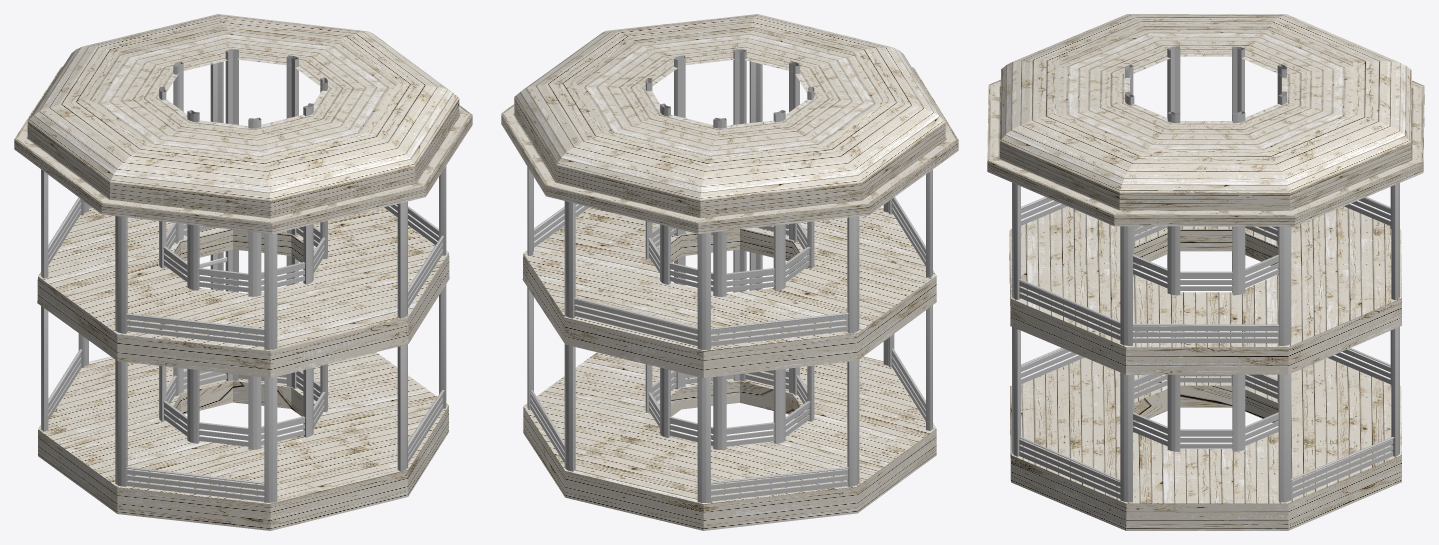
File: Gazebo 7.fbx
The picture shows the model from 3 angles, left to right: view 1: azimuth 30°, elevation 25°; view 2: azimuth 150°, elevation 25°; view 3: azimuth 270°, elevation 25°; orthographic projection. The views are drawn at different scales.
Parts seen in each view (by area): view 1: Circle, Circle.002, Circle.003, Cube.002, Cube.018, Cube.026, Cube.019, Cube.036, Cube.027, Cube.008, Cube.035, Cube.009; view 2: Circle, Circle.002, Circle.003, Cube.002, Cube.018, Cube.026, Cube.019, Cube.027, Cube.036, Cube.008, Cube.009, Cube.035; view 3: Circle, Circle.002, Circle.003, Cube.002, Cube.018, Cube.019, Cube.026, Cube.027, Cube.036, Cube.008, Cube.009, Cube.035.
Part boxes in pixels (x1=…): Circle: x1=14, y1=14, x2=472, y2=233; Circle.002: x1=38, y1=352, x2=448, y2=530; Circle.003: x1=37, y1=207, x2=449, y2=378; Cube.002: x1=159, y1=49, x2=327, y2=449; Cube.018: x1=41, y1=252, x2=446, y2=502; Cube.026: x1=41, y1=61, x2=446, y2=349; Cube.019: x1=48, y1=352, x2=443, y2=501; Cube.036: x1=48, y1=199, x2=443, y2=346; Cube.027: x1=163, y1=370, x2=325, y2=446; Cube.008: x1=163, y1=222, x2=325, y2=292; Cube.035: x1=48, y1=197, x2=444, y2=484; Cube.009: x1=89, y1=204, x2=438, y2=244; Circle: x1=501, y1=14, x2=958, y2=233; Circle.002: x1=523, y1=352, x2=936, y2=530; Circle.003: x1=522, y1=207, x2=936, y2=377; Cube.002: x1=645, y1=49, x2=814, y2=449; Cube.018: x1=527, y1=252, x2=932, y2=502; Cube.026: x1=527, y1=61, x2=932, y2=349; Cube.019: x1=530, y1=351, x2=925, y2=501; Cube.027: x1=648, y1=370, x2=810, y2=446; Cube.036: x1=711, y1=198, x2=925, y2=346; Cube.008: x1=648, y1=223, x2=810, y2=292; Cube.009: x1=534, y1=204, x2=697, y2=345; Cube.035: x1=530, y1=197, x2=925, y2=484; Circle: x1=987, y1=14, x2=1424, y2=226; Circle.002: x1=1010, y1=357, x2=1401, y2=530; Circle.003: x1=1009, y1=206, x2=1401, y2=374; Cube.002: x1=1125, y1=46, x2=1286, y2=451; Cube.018: x1=1012, y1=327, x2=1399, y2=502; Cube.019: x1=1019, y1=349, x2=1393, y2=498; Cube.026: x1=1012, y1=182, x2=1399, y2=345; Cube.027: x1=1133, y1=374, x2=1278, y2=448; Cube.036: x1=1019, y1=198, x2=1390, y2=340; Cube.008: x1=1133, y1=226, x2=1278, y2=290; Cube.009: x1=1133, y1=326, x2=1278, y2=343; Cube.035: x1=1018, y1=197, x2=1394, y2=481.
Size of the model in its own units: 1153 by 1068 by 1153.
